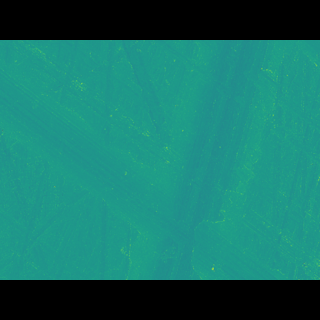Loch: (0, 89, 285, 250), (149, 69, 320, 164)
